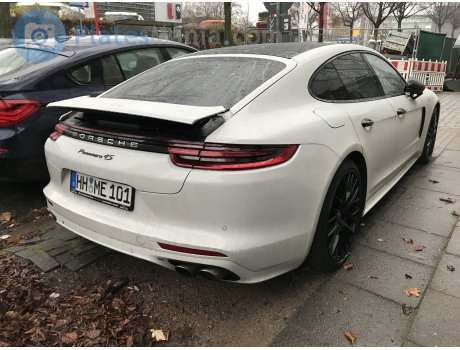License Plates: (74, 174, 130, 201)
